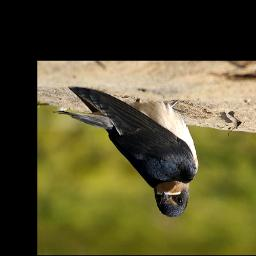Swallow: (52, 87, 200, 218)
